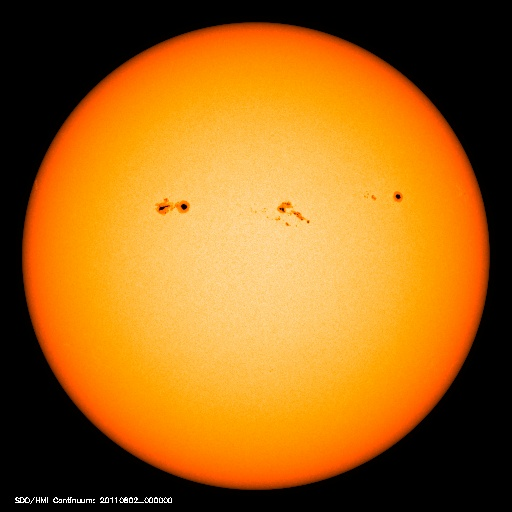sunspot: (256, 192, 315, 232), (140, 188, 202, 223), (356, 179, 413, 211)
